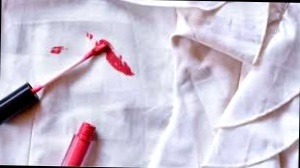lipstick: (101, 46, 138, 76), (92, 36, 113, 55), (49, 43, 65, 57), (83, 33, 91, 41)
